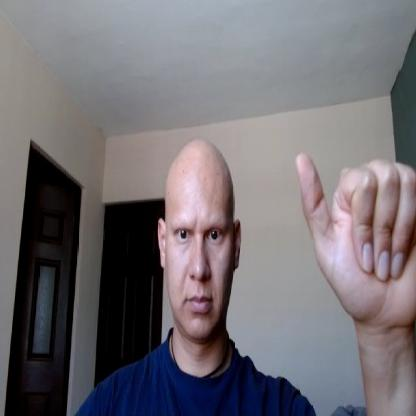A: (295, 150, 416, 324)
